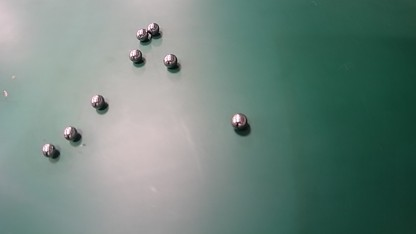ironball: (231, 113, 247, 130), (63, 126, 78, 141), (163, 53, 177, 68), (42, 143, 56, 157), (91, 94, 104, 109), (129, 49, 142, 63), (136, 28, 148, 41), (147, 23, 159, 35)
